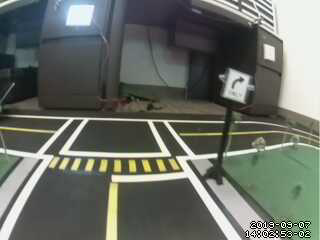Right_only_sign: (220, 69, 254, 106)
